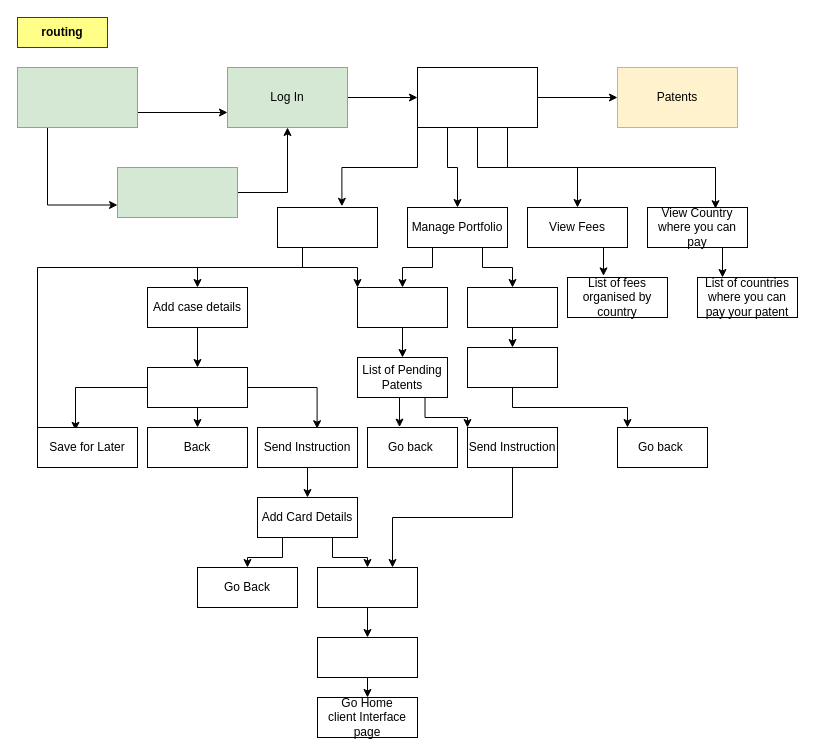
Image size: 815x756. Some labels were removed from this diagram. Here are the shapes that lost their labels. From the top down, the centre of each, then its label:
At point (77, 97): "landing".
At point (477, 97): "Home".
At point (177, 192): "Register".
At point (327, 227): "Add case".
At point (402, 307): "View Saved for later payments".
At point (512, 307): "Sent Payments".
At point (197, 387): "Review Instruction".
At point (512, 367): "List of Paid Patents".
At point (367, 587): "Pay".
At point (367, 657): "Payment sent".
